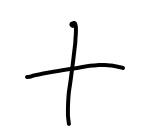plus: (25, 21, 125, 126)
